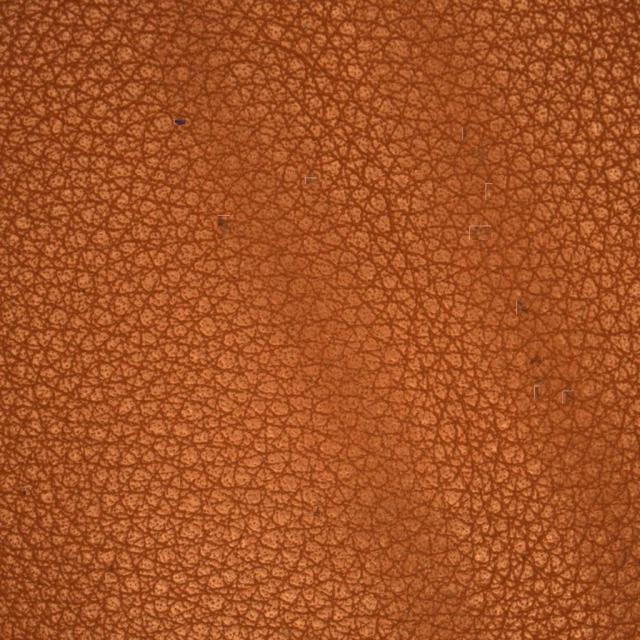Hole: (123, 56, 281, 262), (464, 238, 616, 450)
